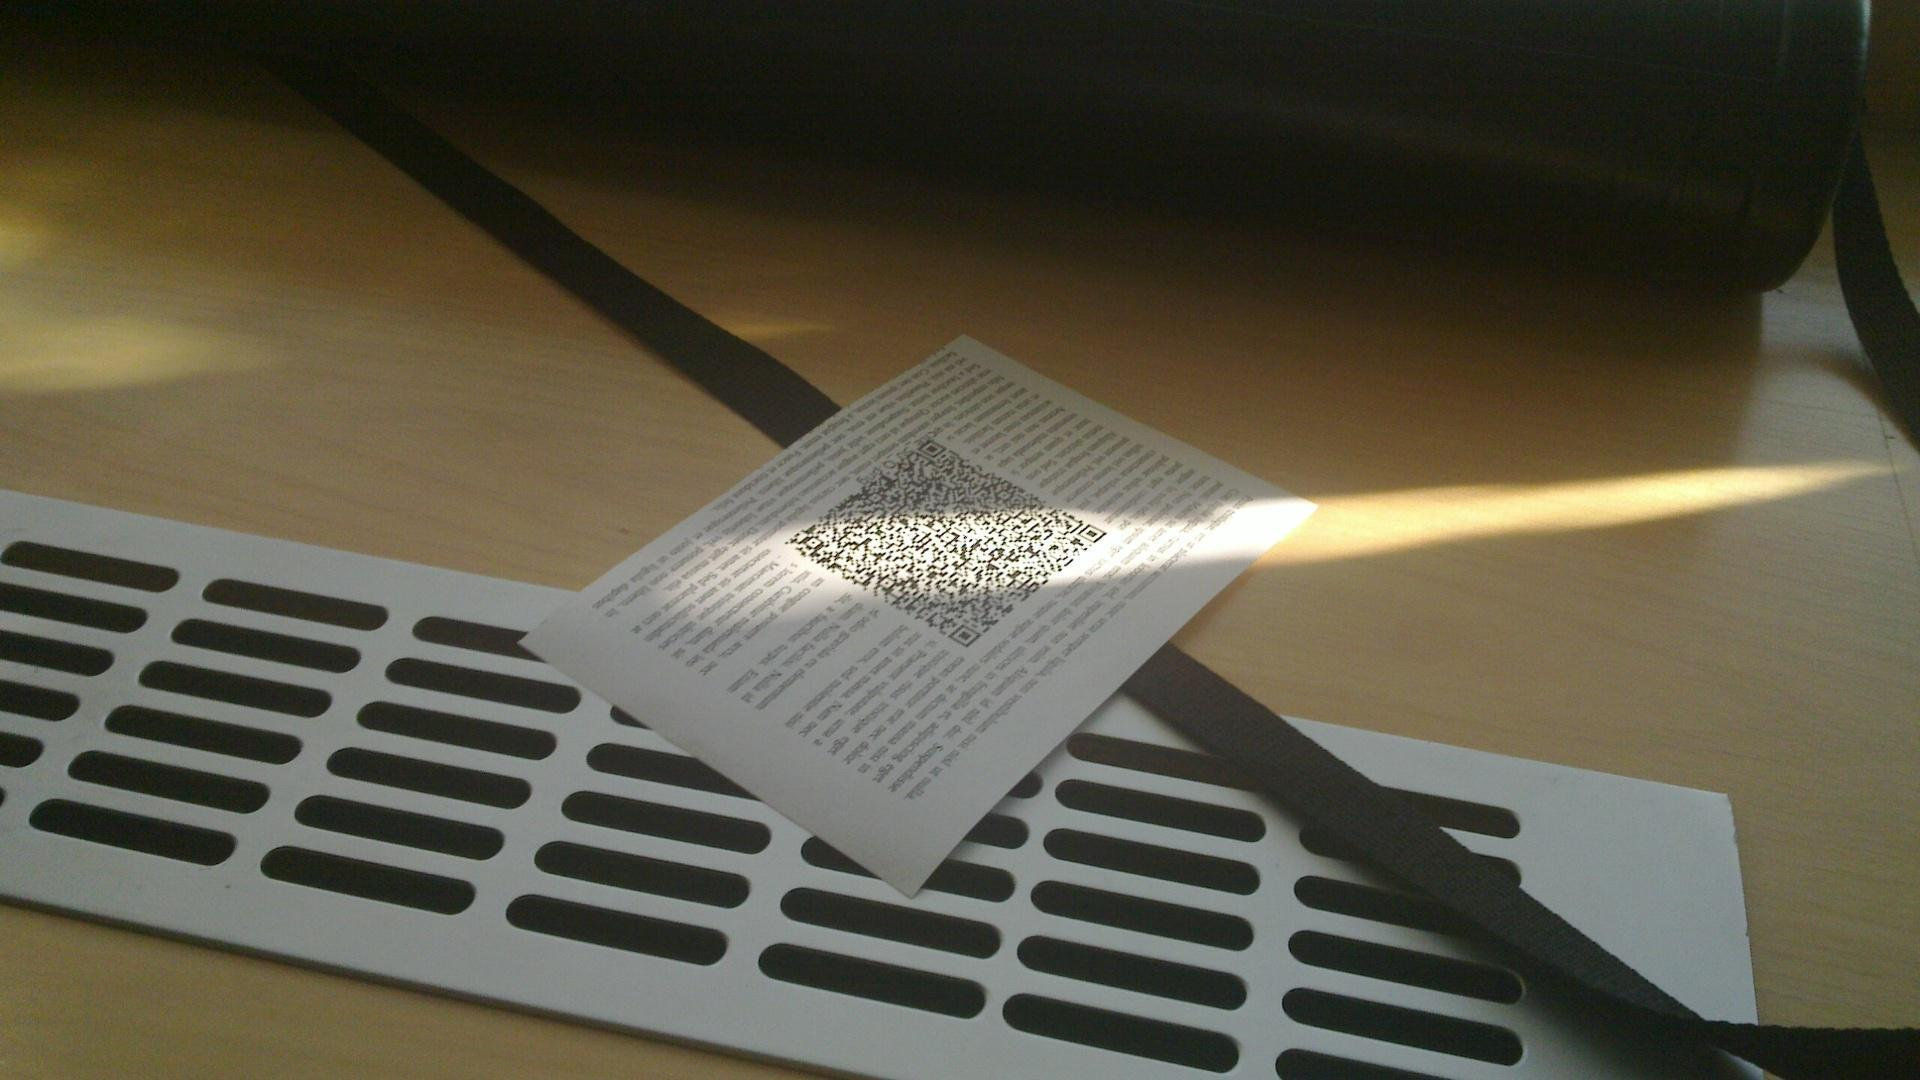Finder pattern: (945, 621, 981, 650), (916, 436, 948, 462), (1077, 524, 1106, 546)
